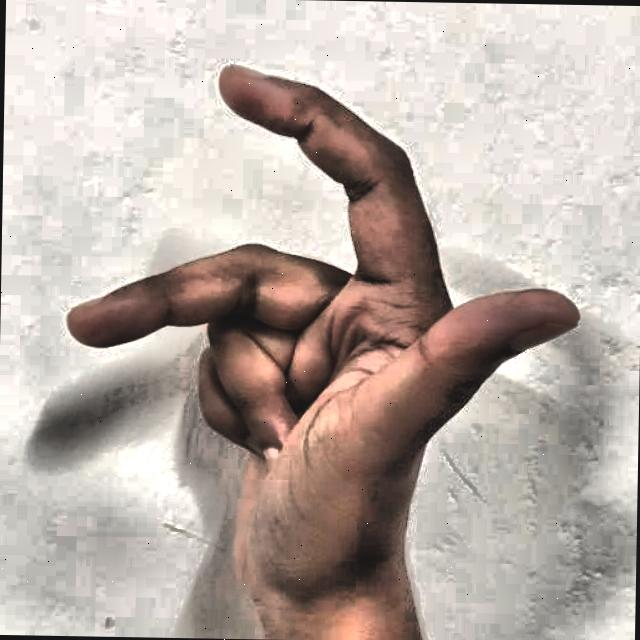Da: (31, 34, 602, 595)
